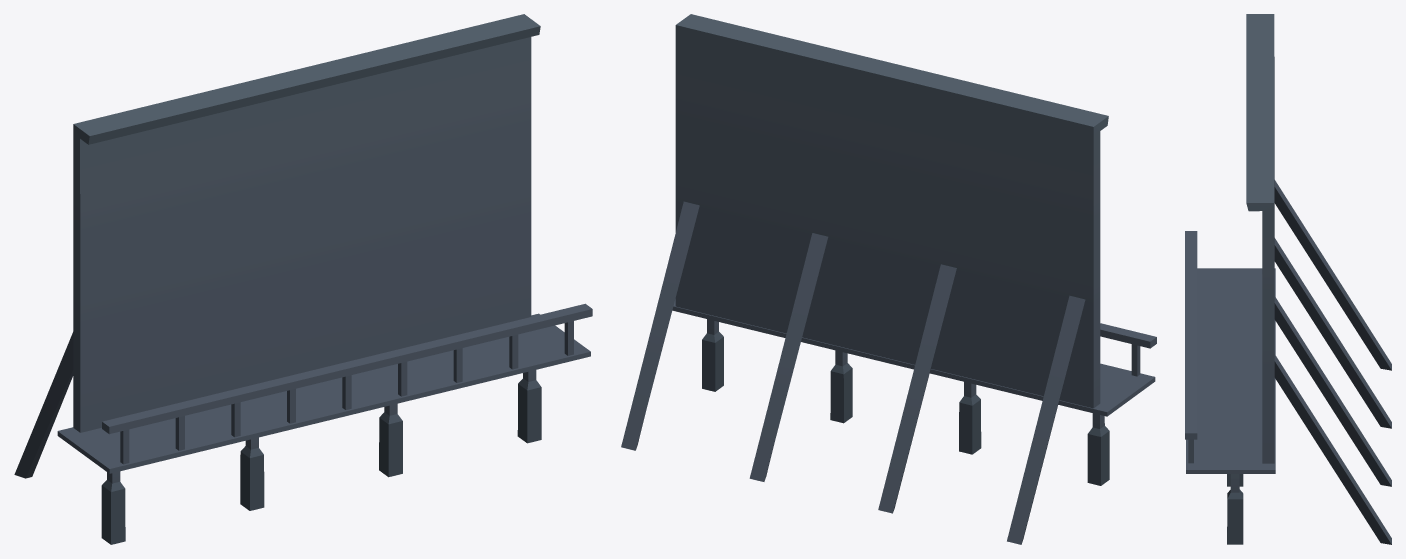
Rendered from Bilboard_1_D.fbx.
3 views of the same model, side by side, from view 1: azimuth 30°, elevation 25°; view 2: azimuth 150°, elevation 25°; view 3: azimuth 270°, elevation 25° (orthographic). The views are drawn at different scales.
Parts seen in each view (by area): view 1: Bilboard_1_D; view 2: Bilboard_1_D; view 3: Bilboard_1_D.
Part boxes in pixels (box(x1,y1,x2,y2)): Bilboard_1_D: box(14, 14, 592, 544); Bilboard_1_D: box(621, 14, 1156, 544); Bilboard_1_D: box(1185, 14, 1391, 544).
Size of the model in its own units: 298 by 238 by 129.
